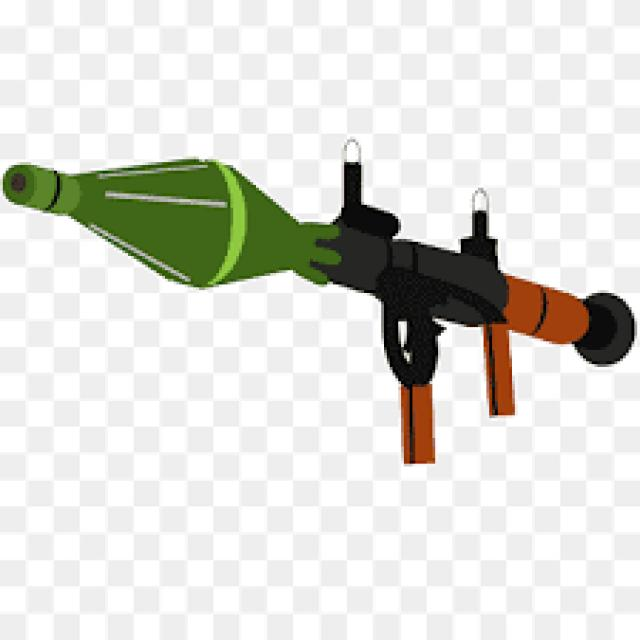Gun: (0, 128, 640, 466)
